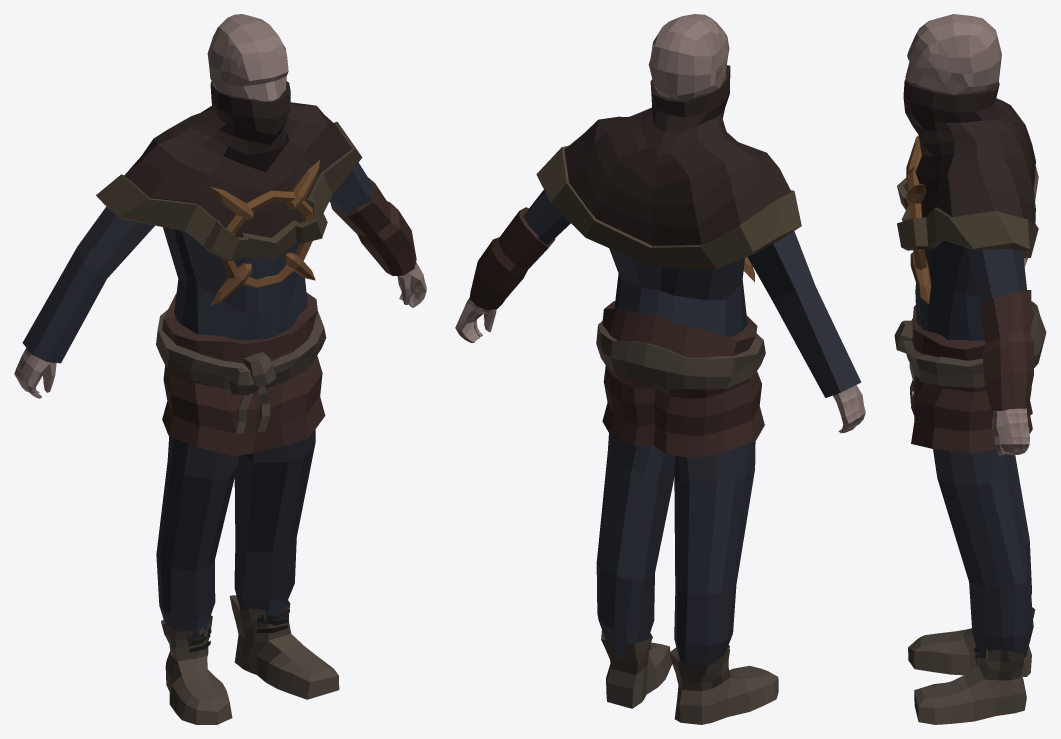
File: lopolychar.fbx
3 views of the same model, side by side, from view 1: azimuth 30°, elevation 25°; view 2: azimuth 150°, elevation 25°; view 3: azimuth 270°, elevation 25° (orthographic).
Parts seen in each view (by area): view 1: Body.001, Scarf.001, Skirt.001, Ring.001, Boot.001, Head.001, Belt.001, Sleeve.001, Hands.001, Plane.001, Laces.001; view 2: Body.001, Scarf.001, Skirt.001, Boot.001, Ring.001, Belt.001, Head.001, Sleeve.001, Hands.001; view 3: Body.001, Scarf.001, Boot.001, Skirt.001, Ring.001, Head.001, Sleeve.001, Belt.001, Hands.001.
Boxes of the visible parts, x1,y1,x2,y2 form: Body.001: (22, 162, 373, 635); Scarf.001: (124, 81, 351, 245); Skirt.001: (162, 292, 325, 456); Ring.001: (96, 121, 362, 305); Boot.001: (161, 595, 339, 724); Head.001: (207, 14, 288, 101); Belt.001: (156, 310, 326, 395); Sleeve.001: (330, 177, 416, 275); Hands.001: (14, 262, 426, 398); Plane.001: (235, 385, 270, 433); Laces.001: (186, 609, 289, 652); Body.001: (523, 190, 861, 665); Scarf.001: (564, 65, 791, 245); Skirt.001: (602, 301, 764, 457); Boot.001: (601, 630, 778, 724); Ring.001: (536, 145, 801, 282); Belt.001: (596, 321, 765, 389); Head.001: (648, 14, 729, 99); Sleeve.001: (469, 207, 555, 310); Hands.001: (455, 298, 865, 433); Body.001: (915, 240, 1033, 658); Scarf.001: (903, 78, 1035, 245); Boot.001: (908, 607, 1035, 724); Skirt.001: (911, 305, 1034, 453); Ring.001: (897, 135, 1038, 304); Head.001: (905, 14, 1001, 94); Sleeve.001: (979, 290, 1033, 410); Belt.001: (894, 301, 1046, 387); Hands.001: (992, 258, 1029, 455).
Bounding box in the file's own units: 1667 × 2672 × 548.
